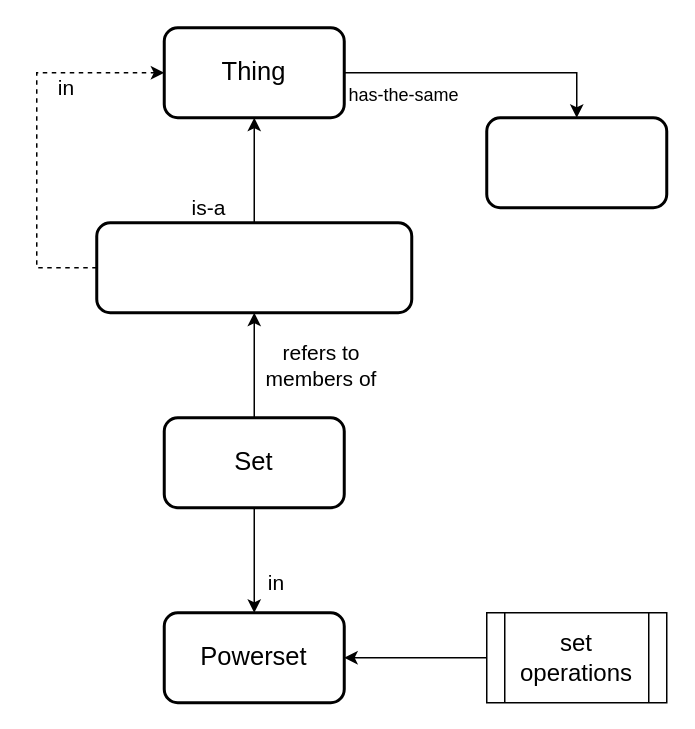
This 695x729 diagram has some shape labels left out. Each missing label, with the centre of its shape:
Natural Collection: pixel 253 267
Type: pixel 576 162
